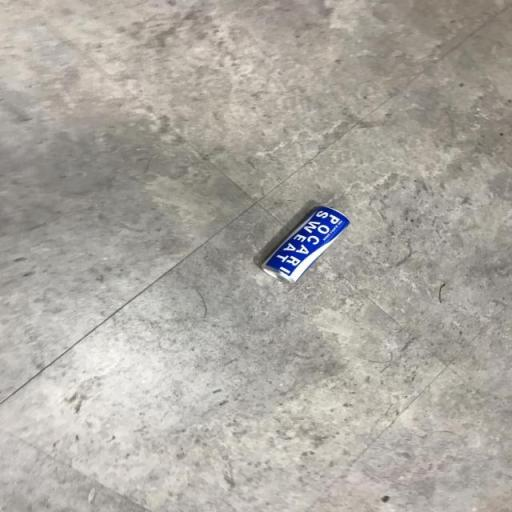metal: (215, 194, 389, 292)
